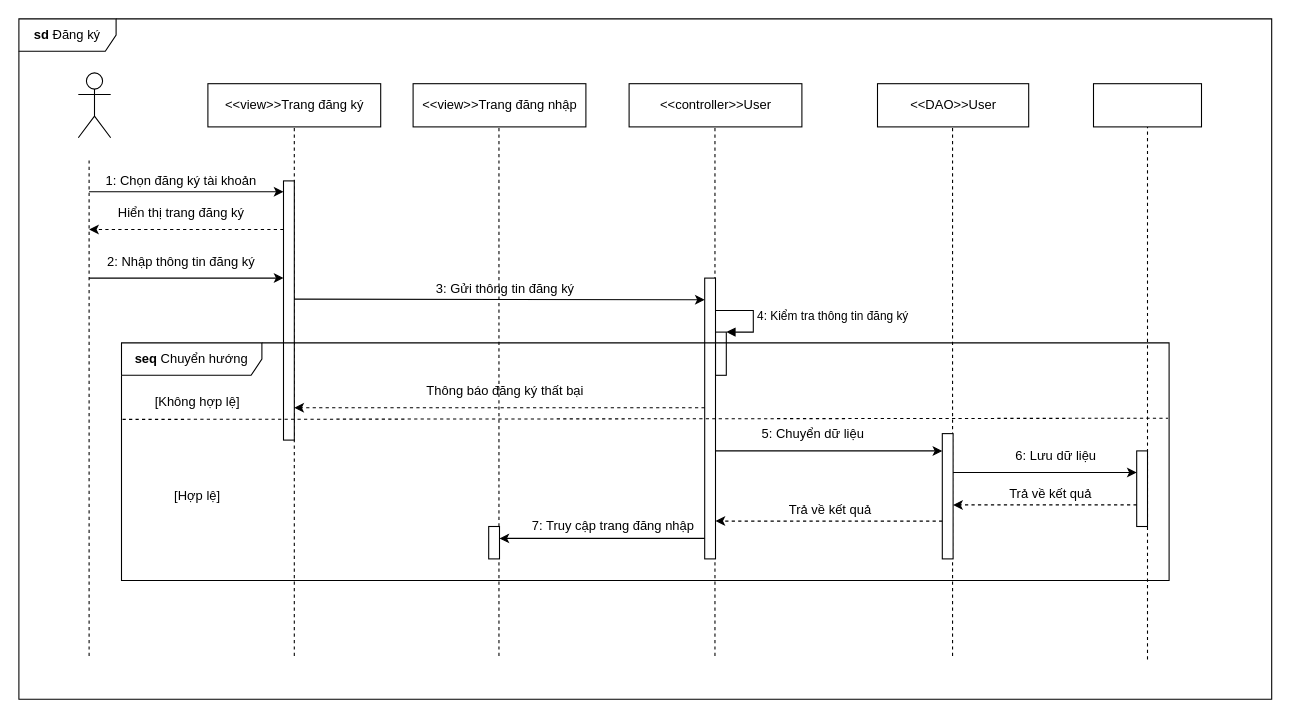
This 1291x718 diagram has some shape labels left out. Each missing label, with the centre of its shape:
Database: the point at 1147,105
Người dùng: the point at 94,105
